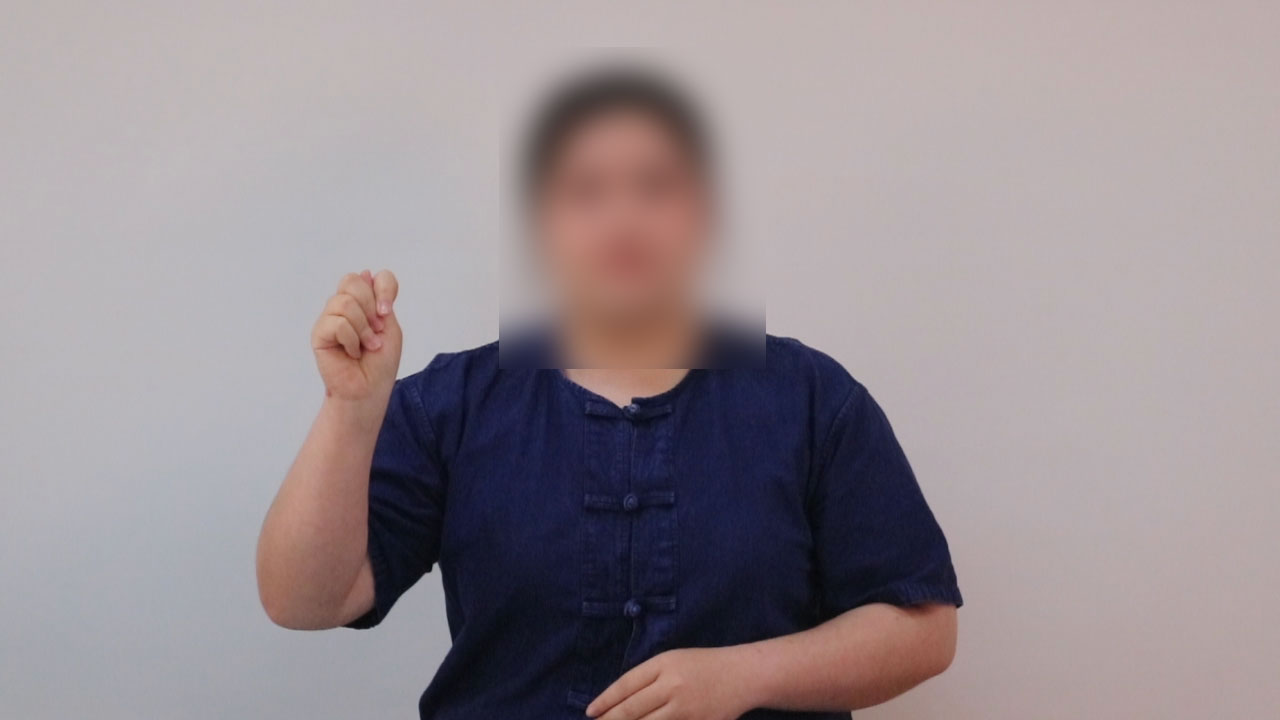tor: (282, 246, 434, 417)
